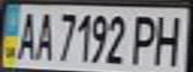1: (72, 10, 93, 63)
2: (106, 10, 133, 65)
7: (54, 9, 75, 62)
9: (87, 10, 112, 64)
A: (12, 8, 42, 61), (30, 8, 57, 62)
H: (148, 10, 190, 66)
P: (127, 11, 163, 66)
